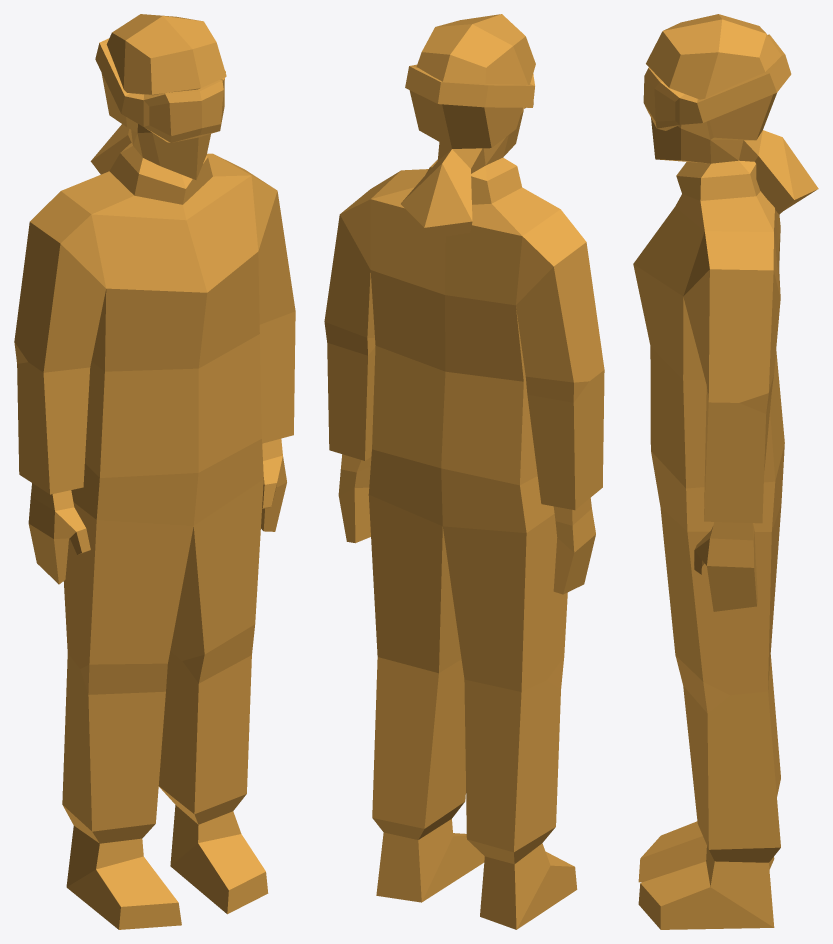
Rendered from woman-ski.fbx.
The picture shows the model from 3 angles, left to right: view 1: azimuth 30°, elevation 25°; view 2: azimuth 150°, elevation 25°; view 3: azimuth 270°, elevation 25°; orthographic projection.
Visible parts, largest first — view 1: woman-ski; view 2: woman-ski; view 3: woman-ski.
Boxes of the visible parts, left/top/right/bottom form: woman-ski: left=14, top=14, right=295, bottom=929; woman-ski: left=324, top=14, right=604, bottom=929; woman-ski: left=633, top=14, right=818, bottom=929.
Size of the model in its own units: 0.5584 by 1.85 by 0.3556.
